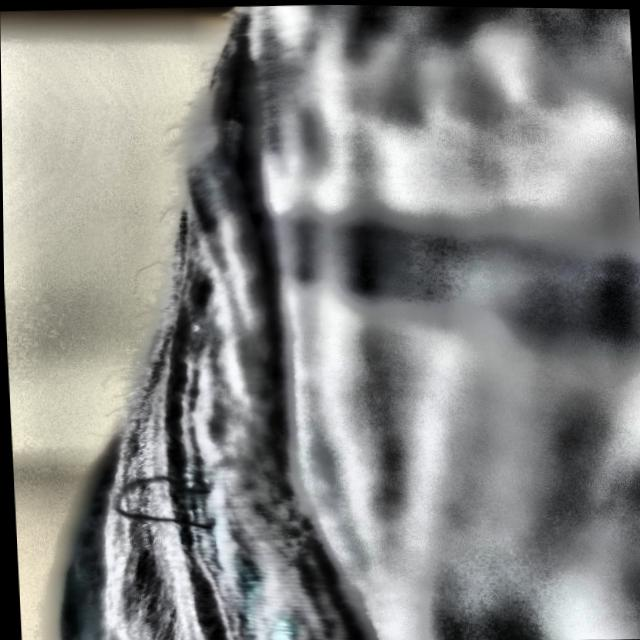Stitch: (58, 458, 235, 545)
